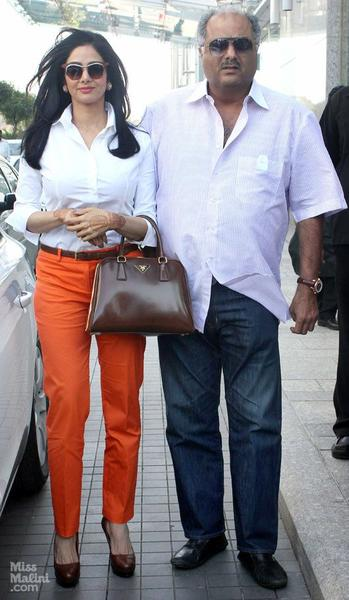jeans: (166, 274, 283, 550)
sunglasses: (203, 37, 257, 58), (59, 62, 108, 85)
